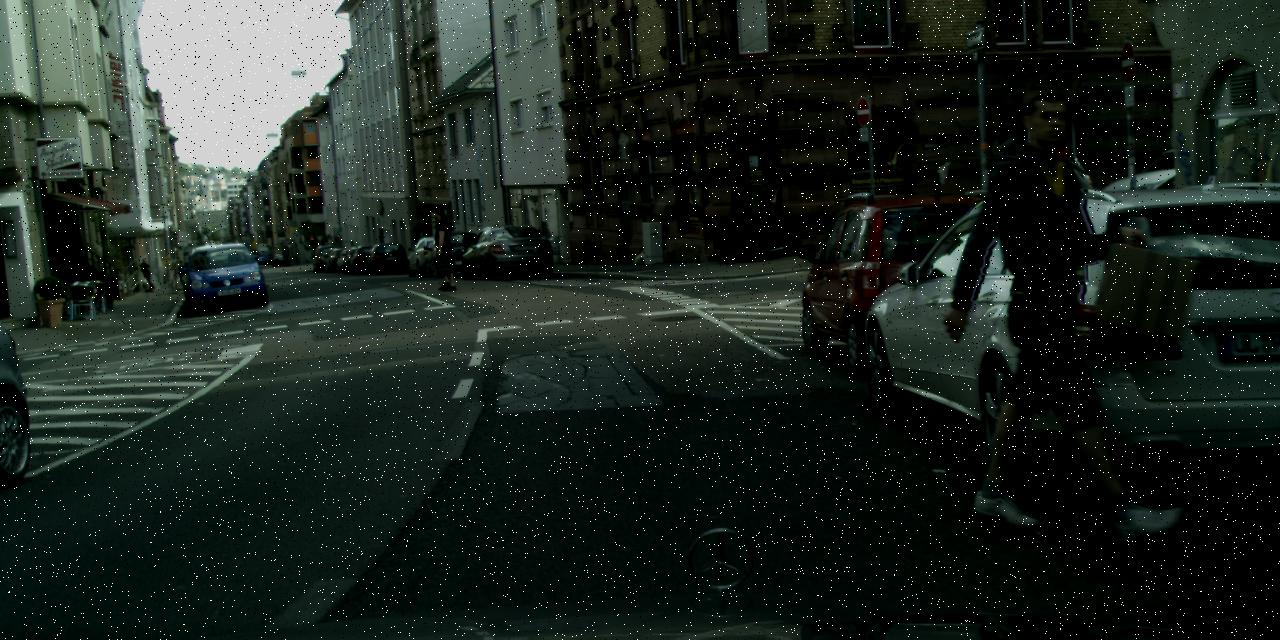ped: (969, 90, 1151, 534), (426, 206, 460, 288), (141, 258, 154, 288)
